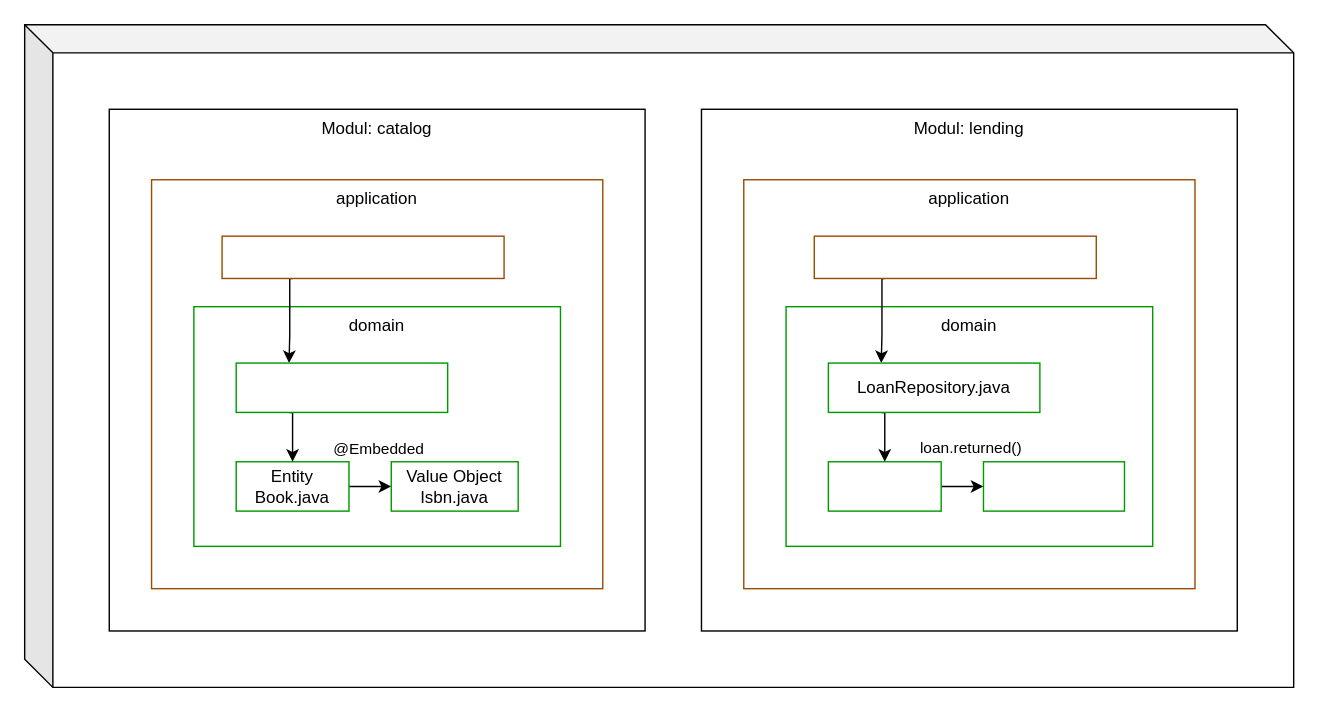
Image size: 1318x712. Some labels were removed from this diagram. The centre of each missing label's shape, as x and y in pixels:
"AddBookToCatalogUseCase.java" belongs at [362,256].
"BookSearchService.java" belongs at [341,387].
"Entity Loan.java" belongs at [884,485].
"Event LoanClosed.java" belongs at [1053,485].
"ReturnBookUseCase.java" belongs at [954,256].
